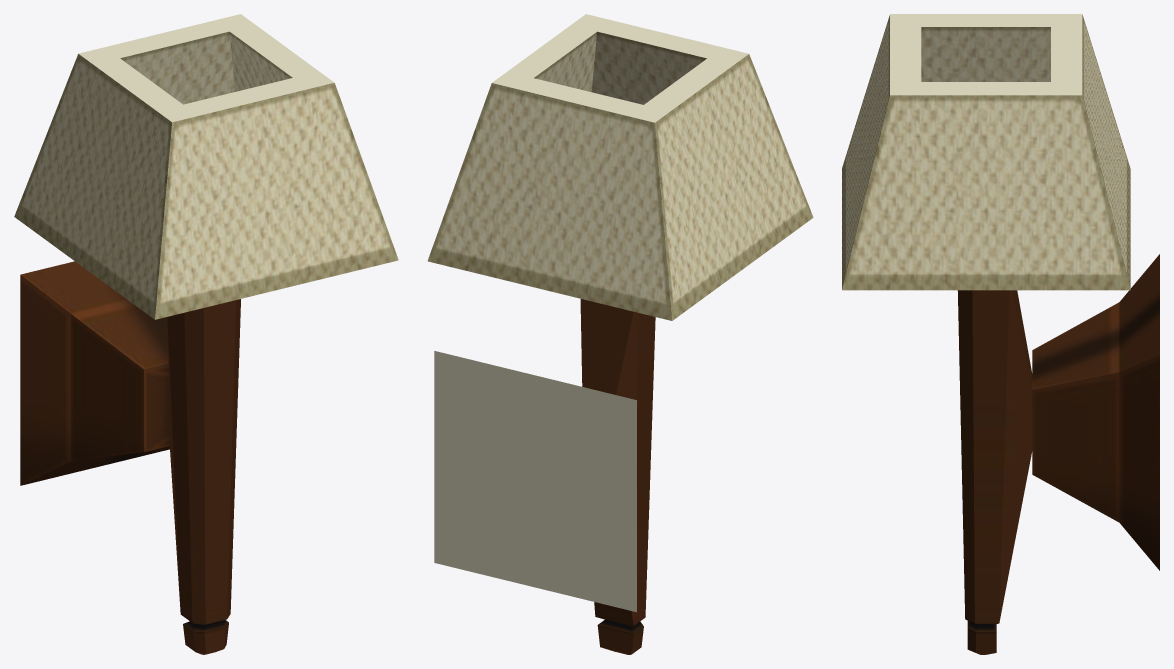
3 views of the same model, side by side, from view 1: azimuth 30°, elevation 25°; view 2: azimuth 150°, elevation 25°; view 3: azimuth 270°, elevation 25° (orthographic). The views are drawn at different scales.
Visible parts, largest first — view 1: Wall_Lamp; view 2: Wall_Lamp; view 3: Wall_Lamp.
Part boxes in pixels (x1=…): Wall_Lamp: x1=14, y1=14, x2=398, y2=654; Wall_Lamp: x1=427, y1=14, x2=813, y2=654; Wall_Lamp: x1=842, y1=14, x2=1159, y2=654.
Size of the model in its own units: 14015 by 32011 by 15447.
1 material, 1 textured.
